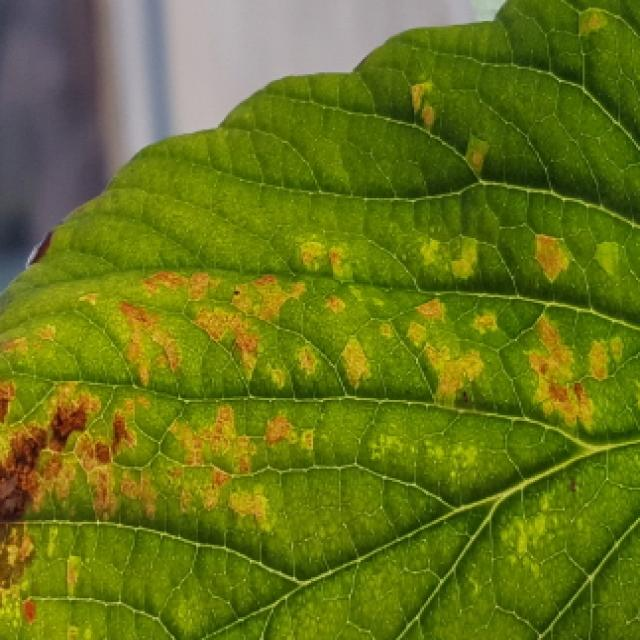Angular Leafspot: (0, 0, 640, 640)
